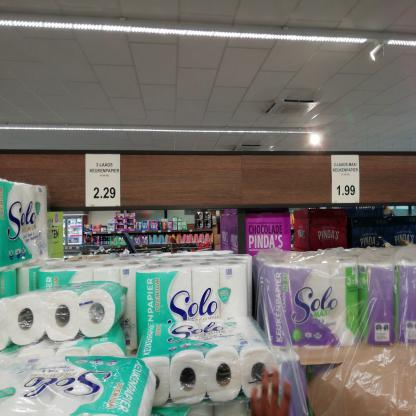prtg: (87, 155, 122, 207), (332, 156, 360, 204)
